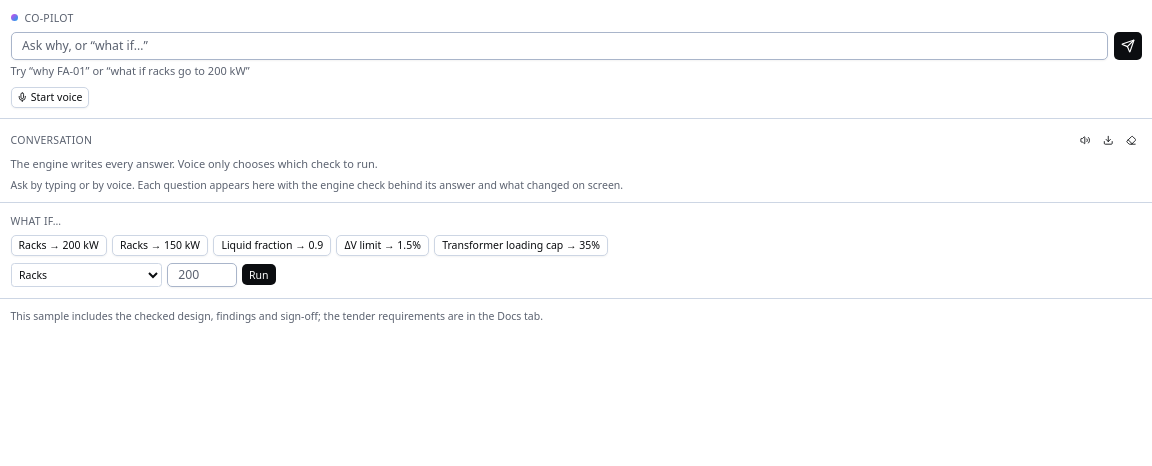
residual: "show BOQ" says the element is not drawn on a canvas and keeps the view
The width and height of the screenshot is (1152, 466).
Type "show BOQ" into the field named "Ask the co-pilot".
click(559, 46); type("show BOQ")  # box [10,32,1108,60]
Then press Enter
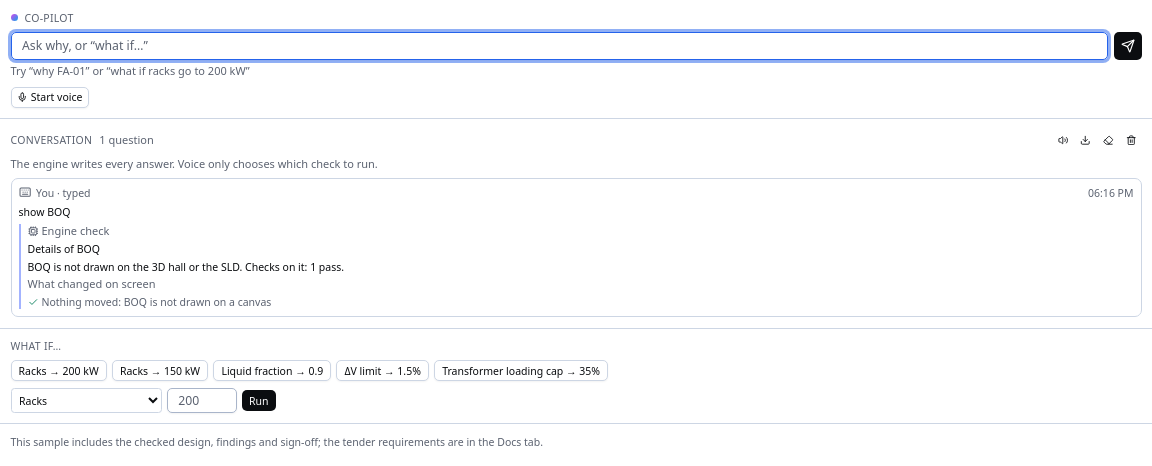
Expected: the text "BOQ is not drawn on the 3D hall or the SLD" is shown, [28,260,344,274]
